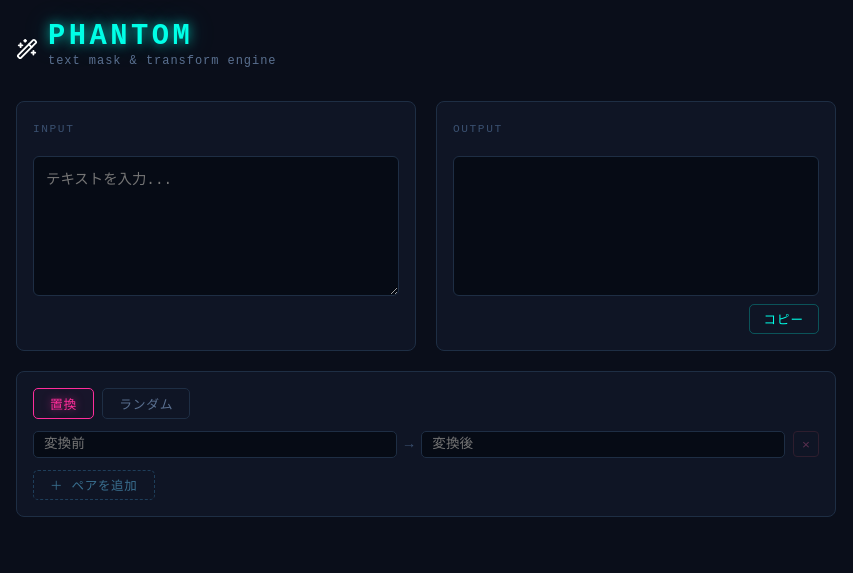
it: 置換ペア › 削除ボタンでペアが消える
The image size is (853, 573).
Click the button "＋ ペアを追加" at {"x": 94, "y": 485}, box 33,470 -> 154,500
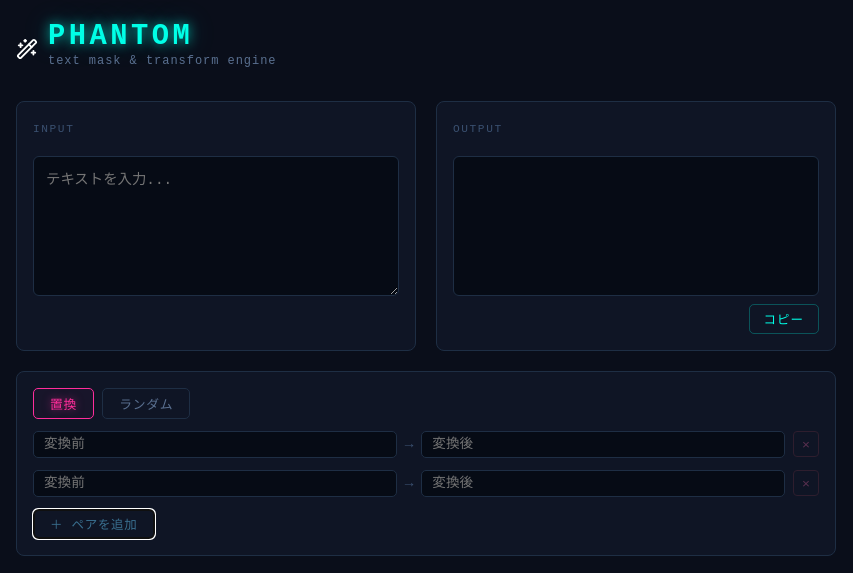
Result: the number of fields with placeholder "変換前" is 2 at 33,431 -> 397,458; 33,470 -> 397,497
Click the button named "ペアを削除" at {"x": 806, "y": 444}, box 793,431 -> 819,457
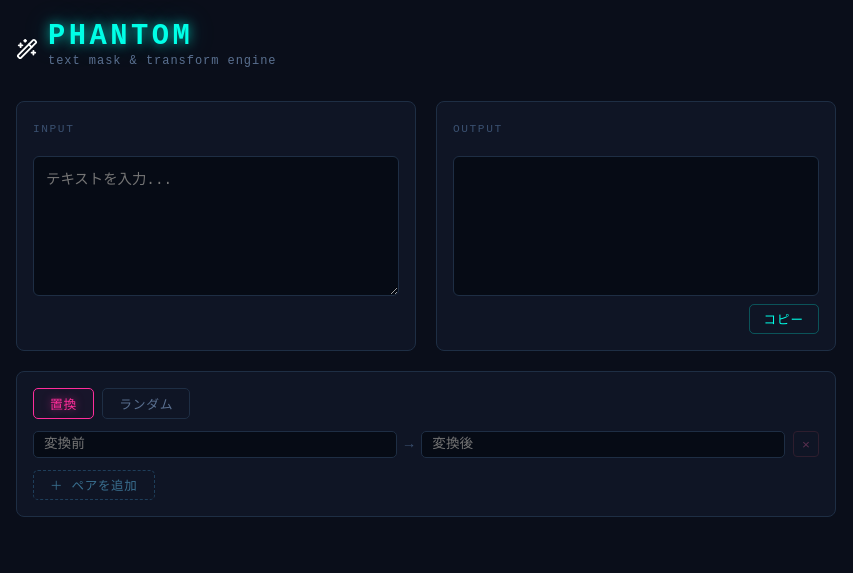
Result: the number of fields with placeholder "変換前" is 1 at 33,431 -> 397,458
